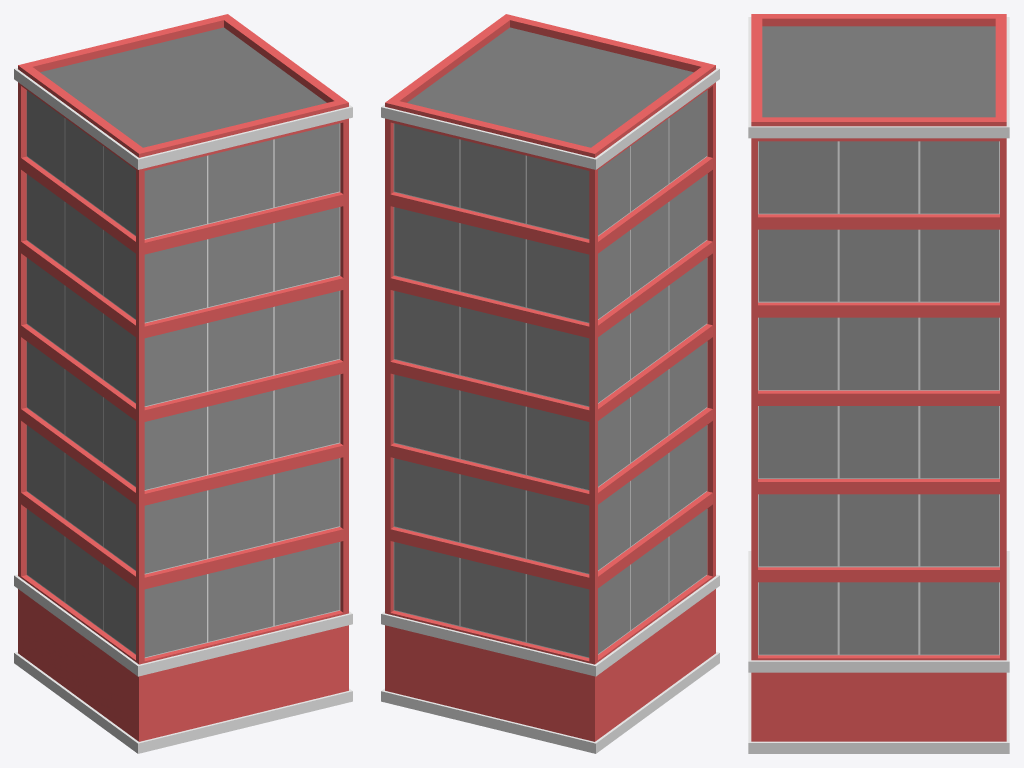
The model's file is SM_House_16_04.FBX.
3 renders of one model, left to right at view 1: azimuth 30°, elevation 25°; view 2: azimuth 150°, elevation 25°; view 3: azimuth 270°, elevation 25°, orthographic. The views are drawn at different scales.
Visible parts, largest first — view 1: SM_House_16_04; view 2: SM_House_16_04; view 3: SM_House_16_04.
Boxes of the visible parts, <box> form: SM_House_16_04: <box>14,14,352,753</box>; SM_House_16_04: <box>381,14,719,753</box>; SM_House_16_04: <box>748,14,1009,753</box>.
Size of the model in its own units: 3.07 by 8.17 by 3.07.
1 material, 1 textured.
